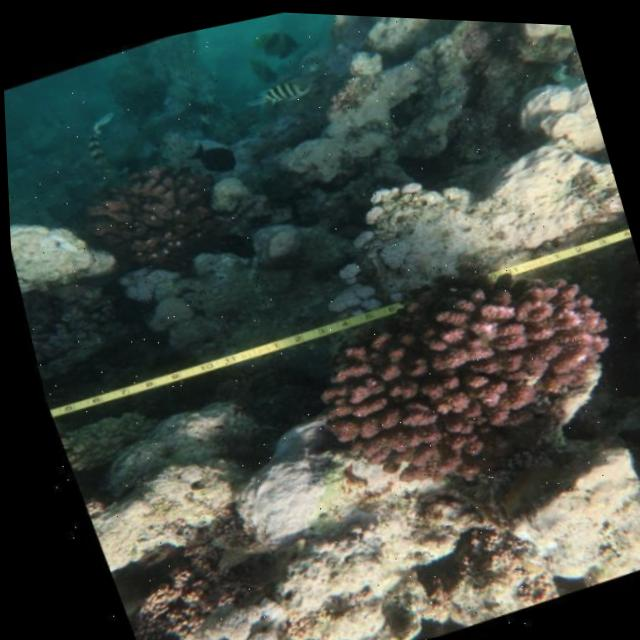Bleached Coral: (162, 568, 328, 640)
Healthy Coral: (254, 222, 640, 545), (48, 136, 232, 296)
